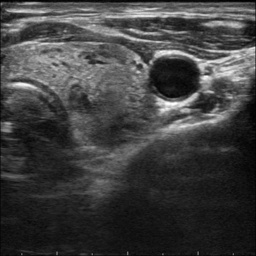mass: (67, 84, 95, 113)
